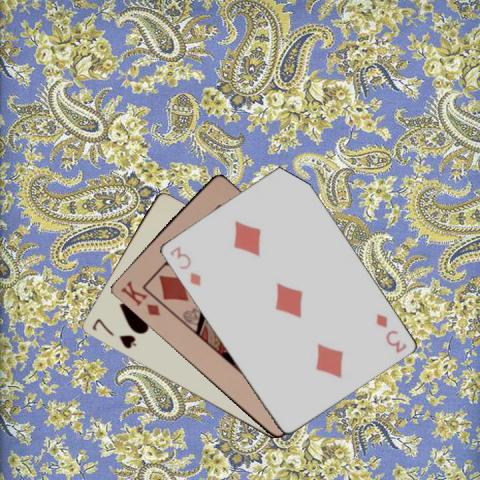3d: (167, 243, 202, 288), (373, 311, 407, 354)
7s: (89, 315, 137, 351)
Kd: (118, 277, 162, 318)
